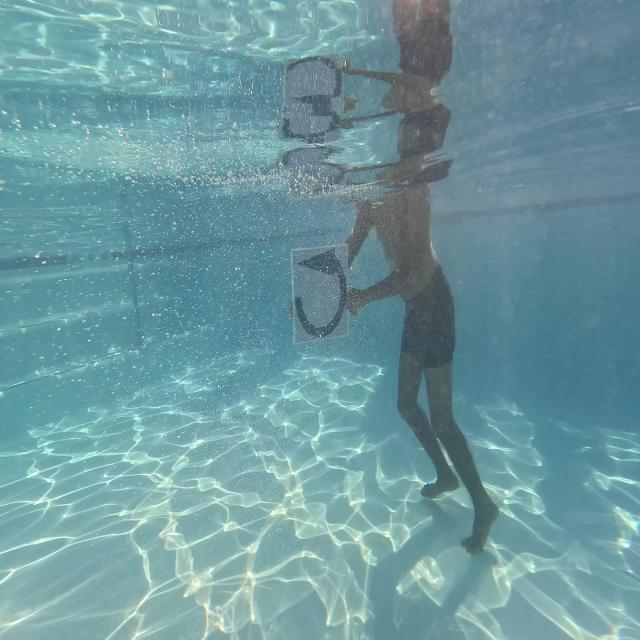blue_side: (291, 246, 350, 340)
